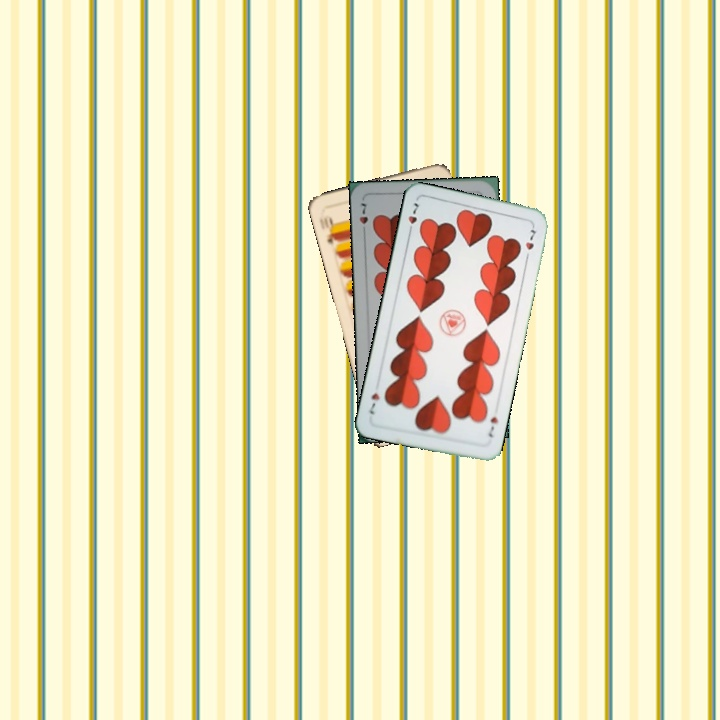E10: (321, 211, 341, 247)
H7: (404, 199, 421, 237), (355, 199, 370, 237), (484, 413, 500, 440)
